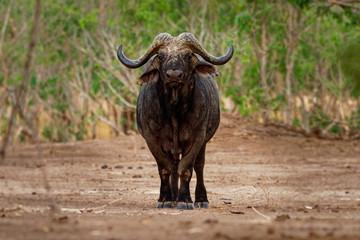Buffalo: (96, 18, 247, 216)
